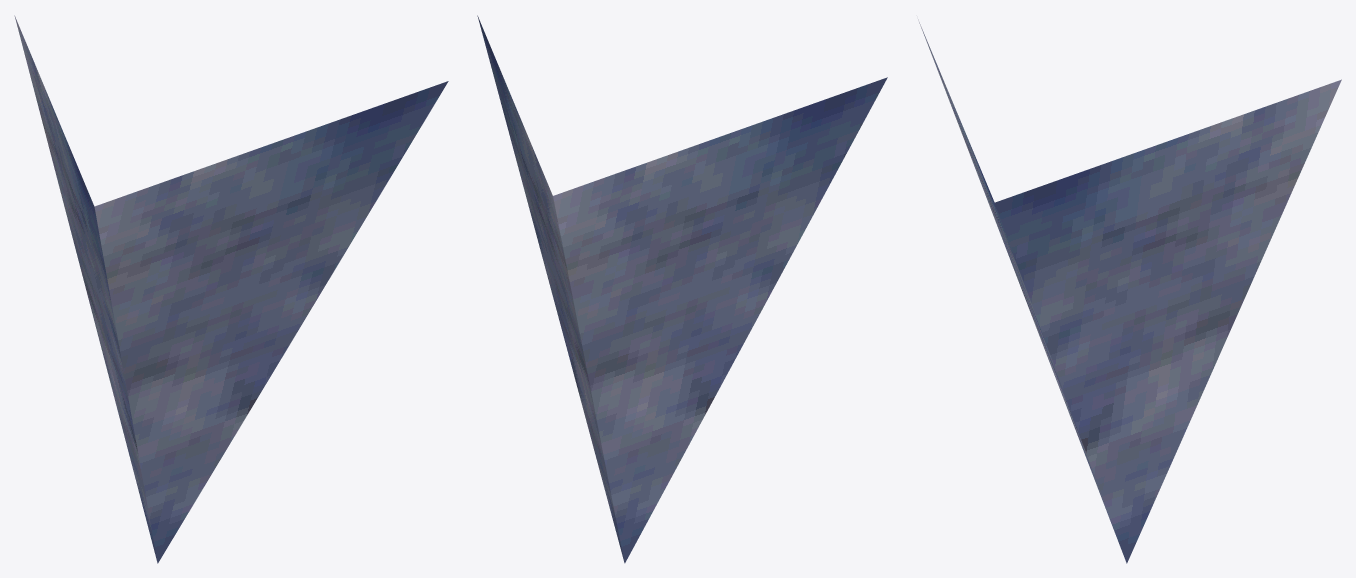
The picture shows the model from 3 angles, left to right: view 1: azimuth 30°, elevation 25°; view 2: azimuth 150°, elevation 25°; view 3: azimuth 270°, elevation 25°; orthographic projection. The views are drawn at different scales.
Parts seen in each view (by area): view 1: Object01; view 2: Object01; view 3: Object01.
Boxes of the visible parts, box(x1,y1,x2,y2) form: Object01: box(14, 15, 448, 563); Object01: box(477, 15, 887, 563); Object01: box(918, 19, 1341, 563).
Size of the model in its own units: 1098 by 1271 by 1048.
1 material, 1 textured.
